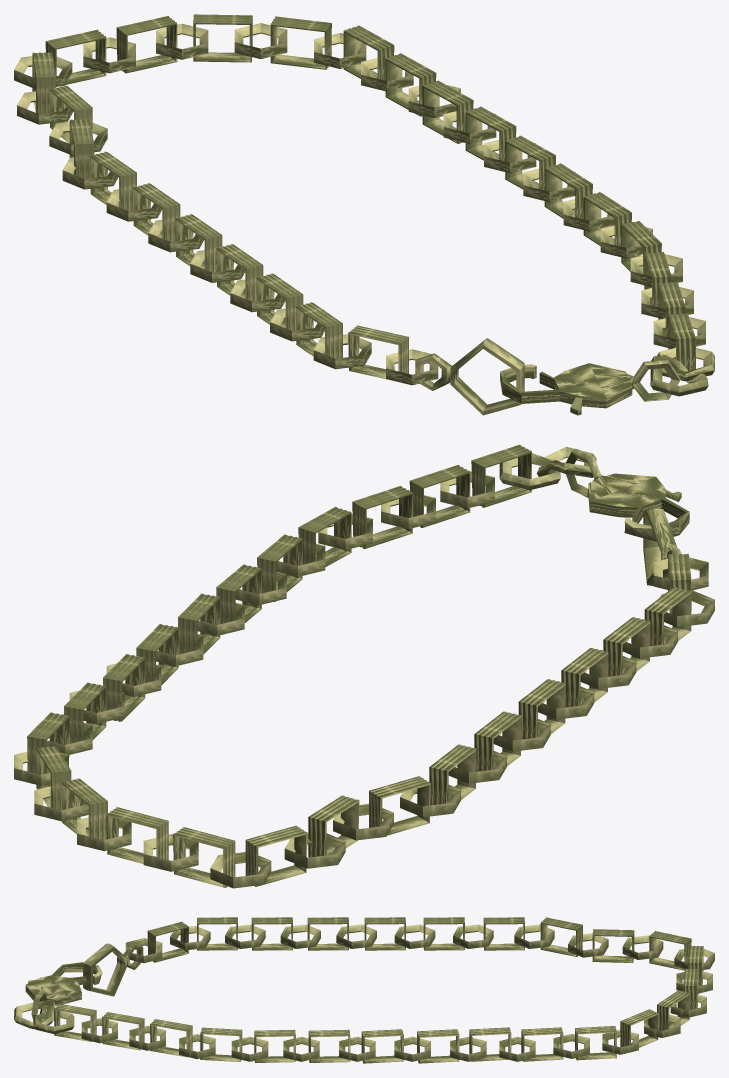
The model's file is heathernecklace.fbx.
3 views of the same model, one above another, from view 1: azimuth 30°, elevation 25°; view 2: azimuth 150°, elevation 25°; view 3: azimuth 270°, elevation 25° (orthographic). The views are drawn at different scales.
Parts seen in each view (by area): view 1: heathernecklace27, heathernecklace26, heatherneckace95, heatherneckace92, heatherneckace87, heatherneckace88, heatherneckace89, heatherneckace93, heatherneckace100, heatherneckace90, heatherneckace97, heatherneckace103 (+42 smaller); view 2: heathernecklace27, heatherneckace106, heatherneckace85, heatherneckace108, heatherneckace87, heatherneckace102, heatherneckace105, heatherneckace75, heatherneckace86, heatherneckace96, heatherneckace94, heatherneckace88 (+38 smaller); view 3: heathernecklace27, heathernecklace26, heatherneckace97, heatherneckace93, heatherneckace96, heatherneckace86, heatherneckace75, heatherneckace106, heatherneckace107, heatherneckace108, heatherneckace85, heatherneckace87 (+42 smaller).
Part boxes in pixels (x1=…): heathernecklace27: x1=500, y1=359, x2=680, y2=415; heathernecklace26: x1=415, y1=338, x2=524, y2=415; heatherneckace95: x1=116, y1=16, x2=177, y2=73; heatherneckace92: x1=295, y1=302, x2=342, y2=358; heatherneckace87: x1=90, y1=151, x2=136, y2=210; heatherneckace88: x1=133, y1=183, x2=180, y2=241; heatherneckace89: x1=175, y1=214, x2=222, y2=272; heatherneckace93: x1=348, y1=325, x2=408, y2=379; heatherneckace100: x1=422, y1=80, x2=473, y2=143; heatherneckace90: x1=216, y1=244, x2=263, y2=301; heatherneckace97: x1=270, y1=16, x2=331, y2=69; heatherneckace103: x1=544, y1=163, x2=592, y2=219; heathernecklace27: x1=566, y1=448, x2=689, y2=541; heatherneckace106: x1=352, y1=486, x2=412, y2=548; heatherneckace85: x1=308, y1=795, x2=359, y2=857; heatherneckace108: x1=471, y1=444, x2=531, y2=507; heatherneckace87: x1=429, y1=744, x2=476, y2=805; heatherneckace102: x1=178, y1=593, x2=220, y2=654; heatherneckace105: x1=298, y1=506, x2=351, y2=566; heatherneckace75: x1=245, y1=825, x2=307, y2=886; heatherneckace86: x1=369, y1=776, x2=430, y2=837; heatherneckace96: x1=61, y1=778, x2=107, y2=839; heatherneckace94: x1=173, y1=827, x2=235, y2=887; heatherneckace88: x1=474, y1=711, x2=521, y2=771; heathernecklace27: x1=25, y1=962, x2=102, y2=1021; heathernecklace26: x1=83, y1=943, x2=143, y2=996; heatherneckace97: x1=620, y1=1009, x2=658, y2=1047; heatherneckace93: x1=147, y1=921, x2=188, y2=962; heatherneckace96: x1=657, y1=990, x2=689, y2=1030; heatherneckace86: x1=540, y1=917, x2=582, y2=956; heatherneckace75: x1=649, y1=931, x2=691, y2=970; heatherneckace106: x1=150, y1=1019, x2=192, y2=1057; heatherneckace107: x1=102, y1=1012, x2=144, y2=1050; heatherneckace108: x1=54, y1=1004, x2=96, y2=1041; heatherneckace85: x1=592, y1=929, x2=634, y2=962; heatherneckace87: x1=483, y1=917, x2=524, y2=950.
Size of the model in its own units: 1.22 by 0.2244 by 2.78.
